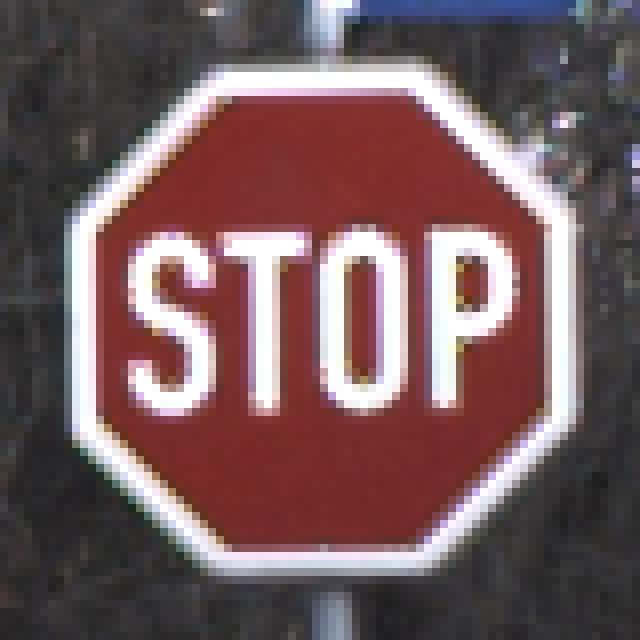STOP: (57, 65, 585, 585)
